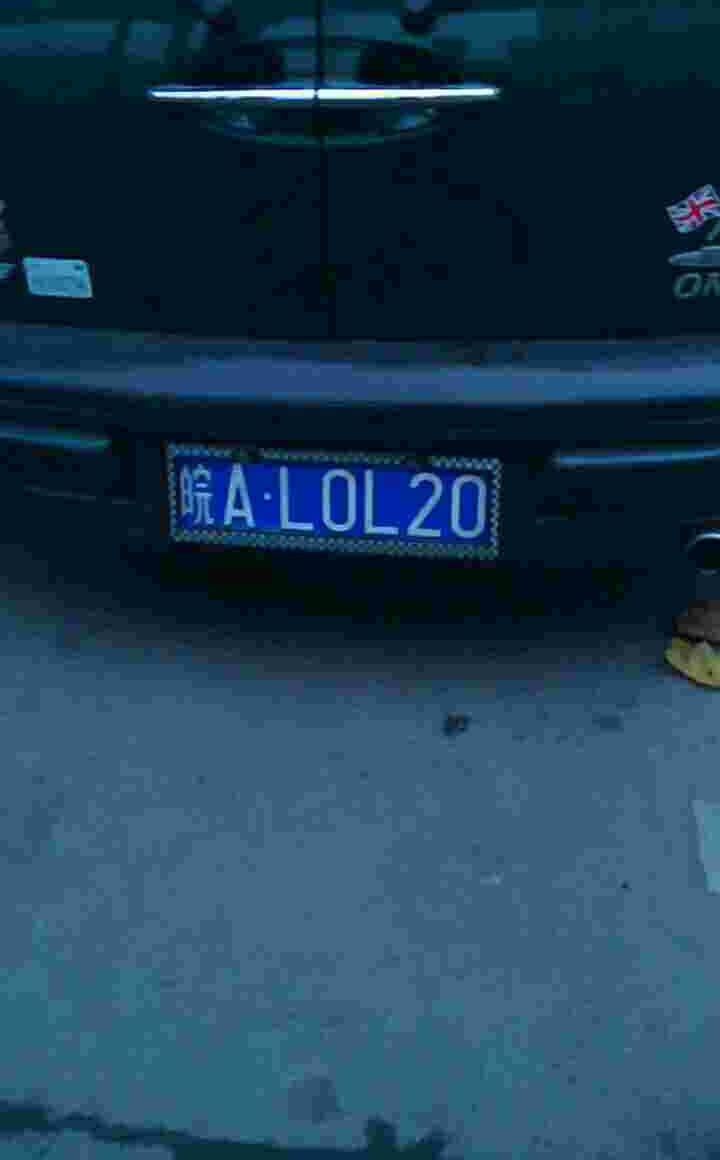license_plate: (171, 445, 520, 558)
